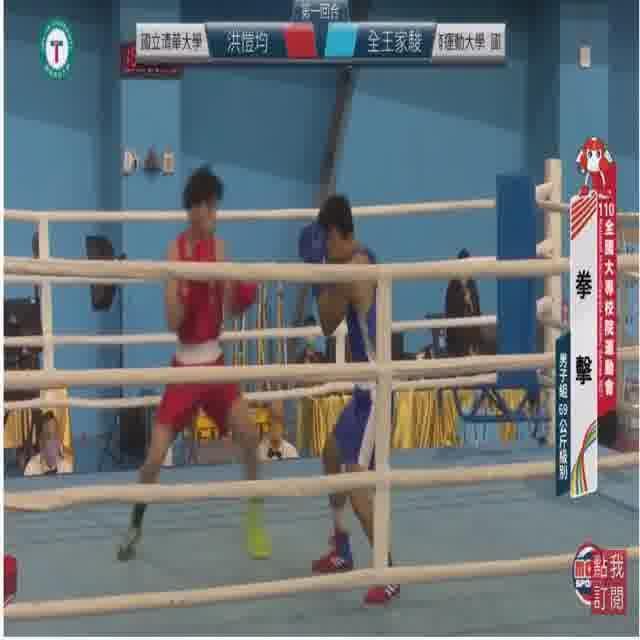blue-player: (297, 193, 405, 607)
red-player: (114, 160, 276, 567)
